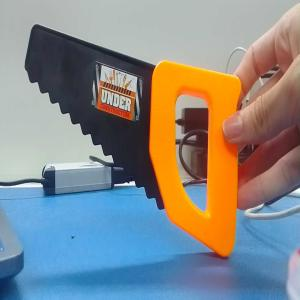serrote: (24, 23, 233, 259)
